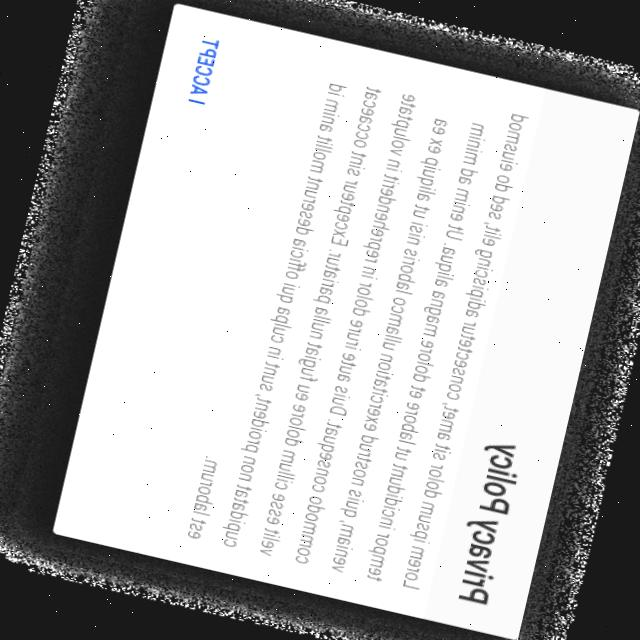QLabel: (180, 61, 530, 594), (448, 438, 524, 606), (182, 34, 221, 109)
VDialog: (49, 1, 640, 640)
